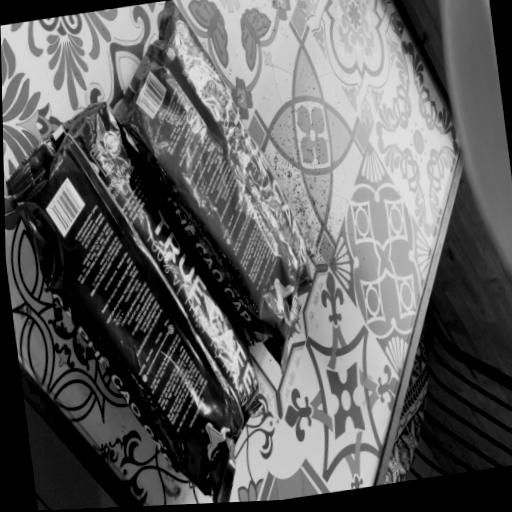cafe_hat: (6, 102, 260, 503)
cafe_xay: (114, 0, 311, 365)
